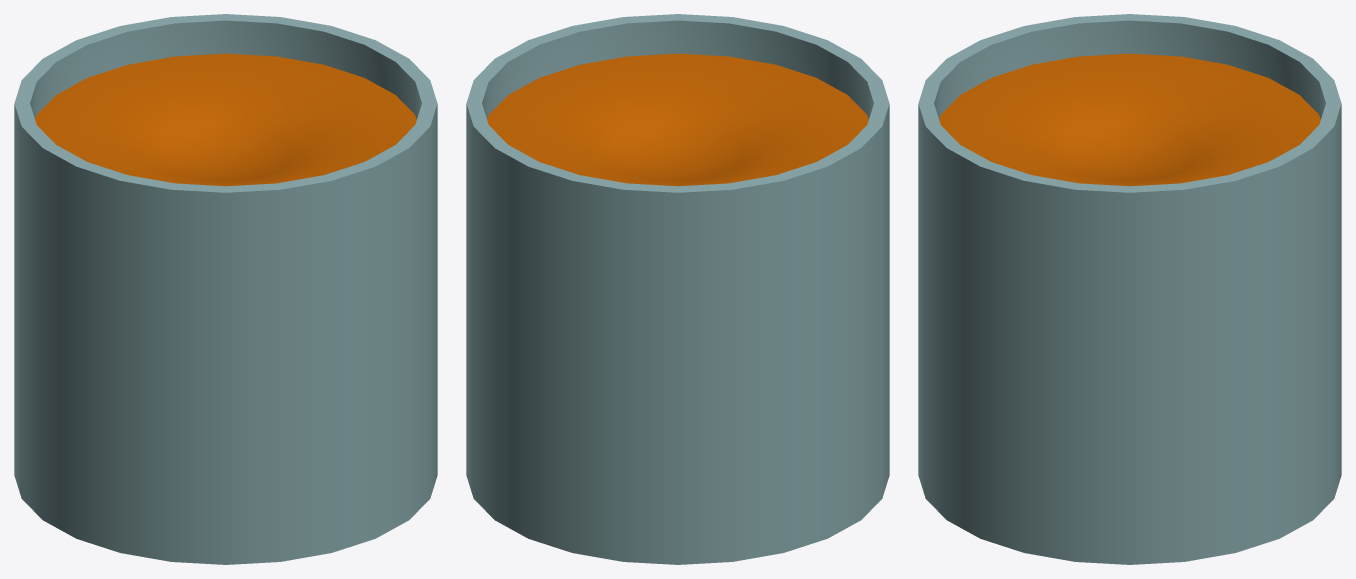
File: S_cup_full.fbx
3 renders of one model, left to right at view 1: azimuth 30°, elevation 25°; view 2: azimuth 150°, elevation 25°; view 3: azimuth 270°, elevation 25°, orthographic.
Parts seen in each view (by area): view 1: S_cup_full_01, water; view 2: S_cup_full_01, water; view 3: S_cup_full_01, water.
Part boxes in pixels (box(x1,y1,x2,y2)): S_cup_full_01: box(14, 14, 437, 564); water: box(35, 53, 416, 186); S_cup_full_01: box(466, 14, 889, 564); water: box(487, 53, 868, 186); S_cup_full_01: box(918, 14, 1341, 564); water: box(939, 53, 1320, 186).
Size of the model in its own units: 0.0459 by 0.0446 by 0.0459.
